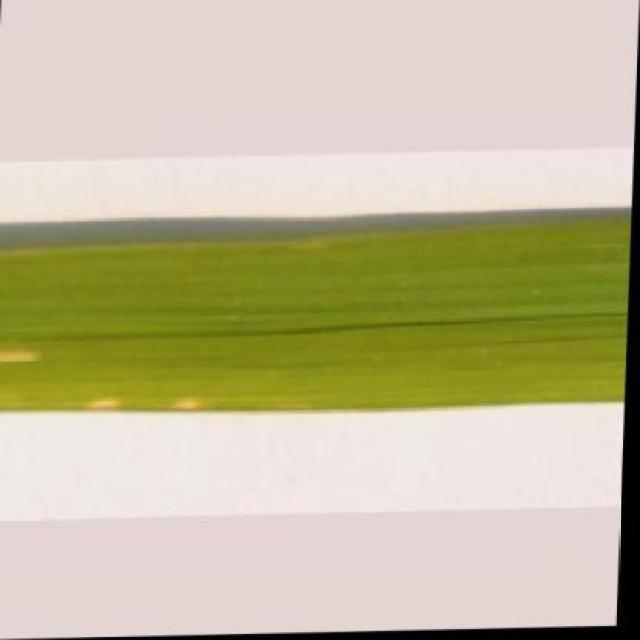Brown_Spot: (0, 208, 634, 424)
